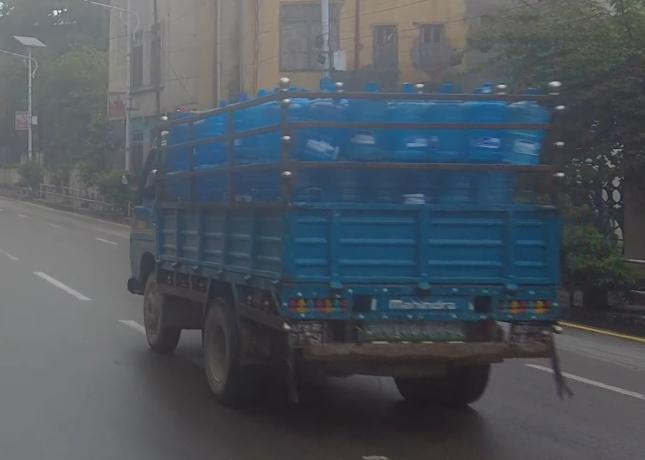mini_truck: (123, 71, 573, 414)
